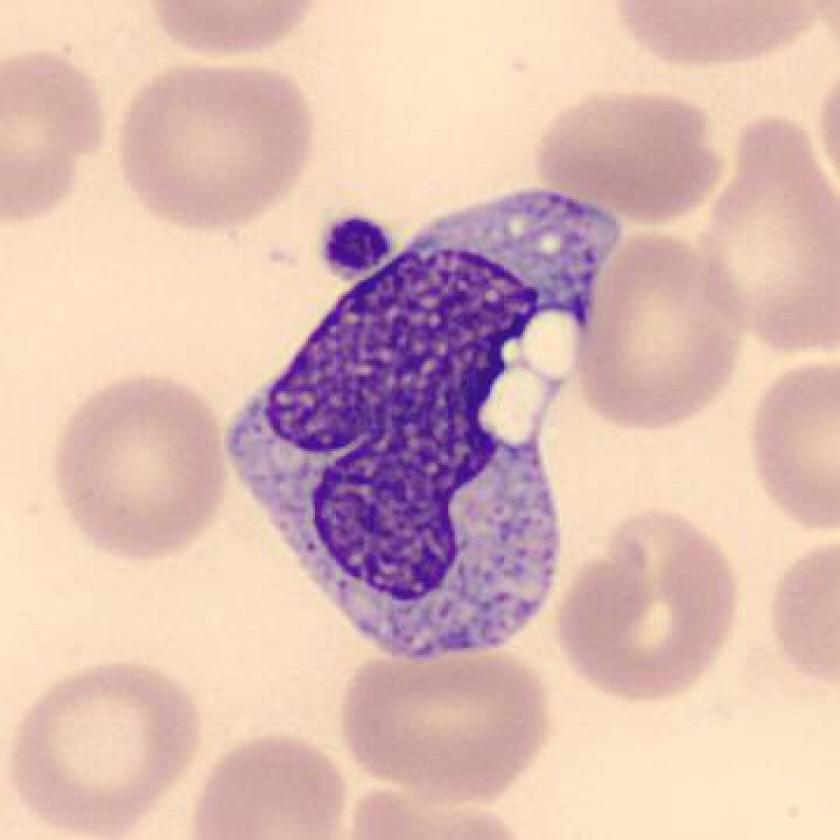monocyte: (207, 161, 641, 674)
